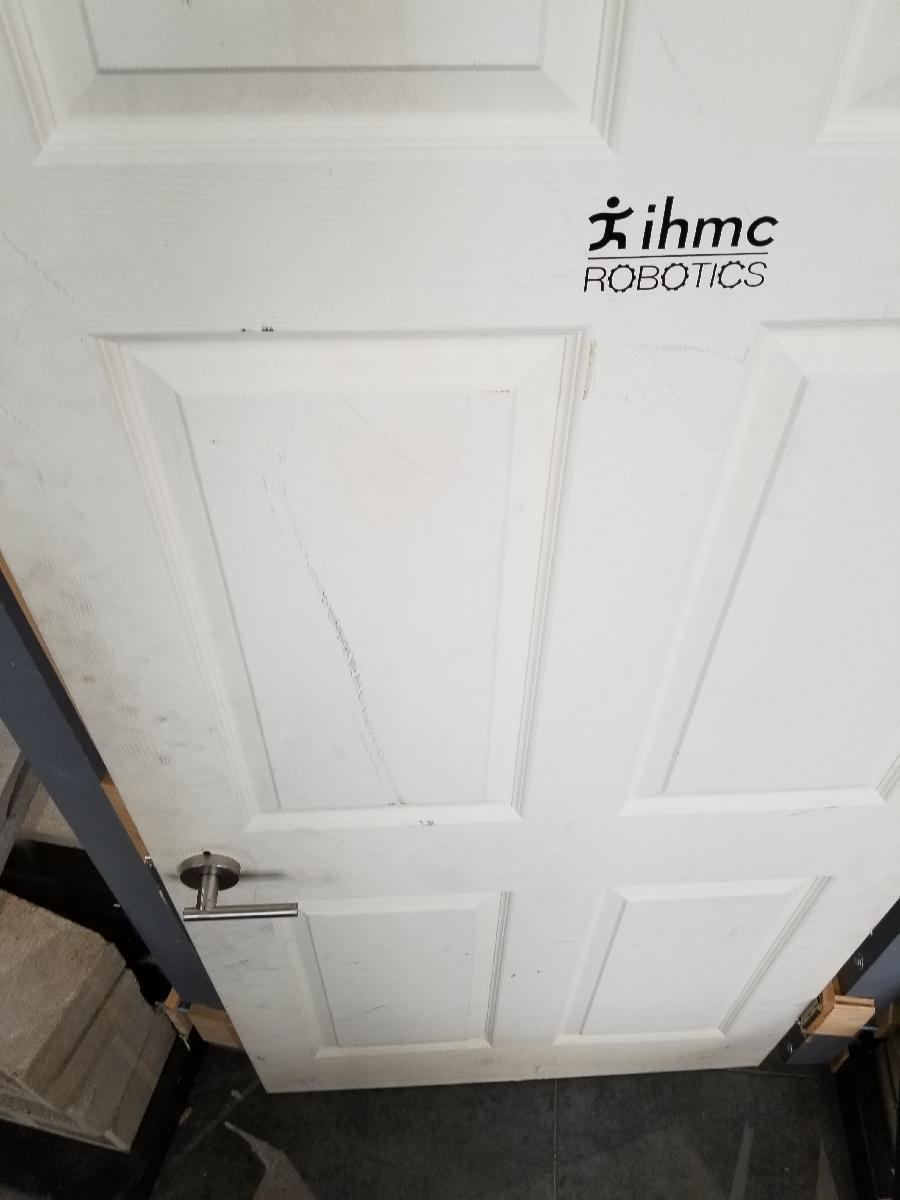door: (76, 1, 900, 1074)
handle: (174, 858, 304, 925)
